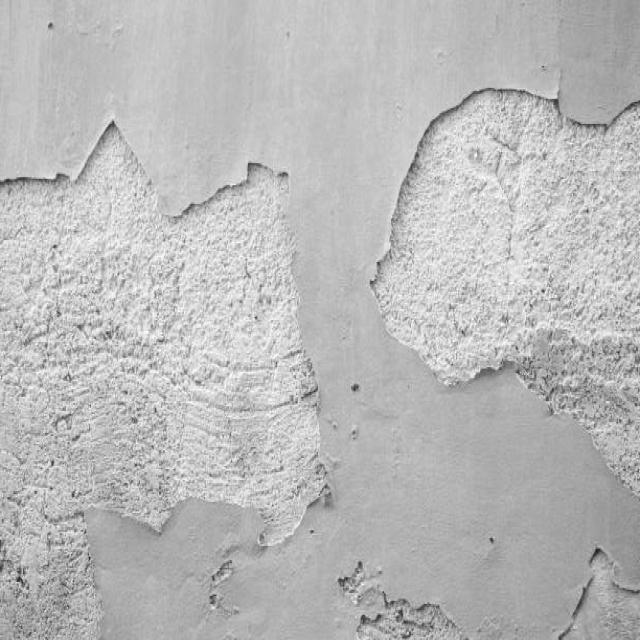peeling paint: (0, 66, 640, 638)
